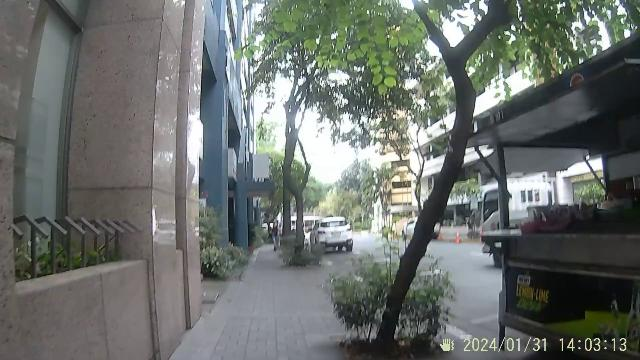tree: (358, 2, 484, 348), (333, 260, 459, 356)
